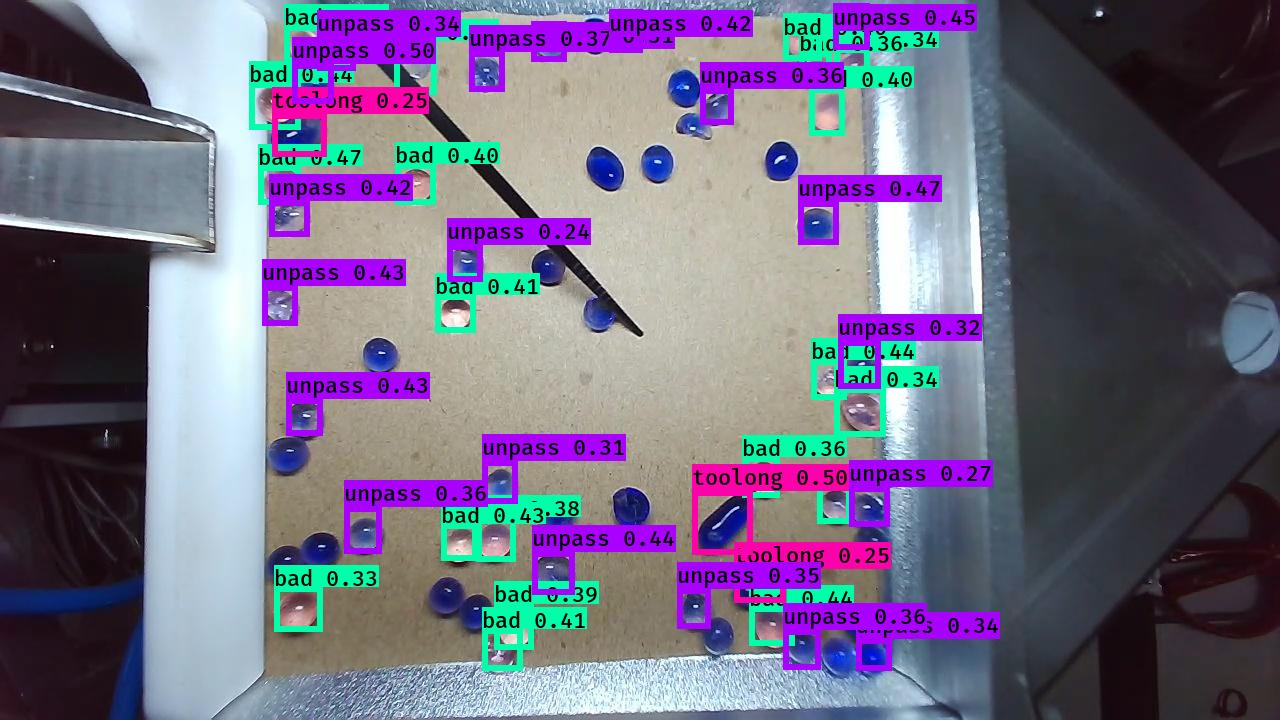bad: (835, 389, 886, 437), (272, 587, 320, 636), (784, 15, 829, 62), (806, 92, 850, 135), (261, 163, 304, 204), (752, 610, 793, 651), (477, 636, 518, 677), (285, 27, 325, 66), (397, 166, 436, 206), (475, 521, 513, 562), (832, 52, 873, 89), (254, 88, 296, 124), (399, 44, 438, 82), (497, 610, 534, 650), (440, 527, 479, 564), (747, 458, 782, 497), (435, 296, 472, 332), (809, 361, 845, 398), (818, 489, 852, 526), (802, 53, 835, 91)
defact: (671, 109, 717, 145)
pass: (609, 481, 654, 534), (584, 143, 627, 194), (757, 138, 801, 184), (530, 250, 573, 292), (539, 494, 581, 537), (259, 542, 301, 585), (300, 529, 340, 572), (361, 336, 400, 380), (426, 576, 468, 616), (665, 67, 704, 110), (458, 591, 495, 636), (697, 616, 737, 657), (580, 291, 619, 333), (640, 145, 678, 186), (853, 526, 891, 567), (837, 601, 877, 639), (578, 16, 612, 54)
toolong: (692, 491, 754, 556), (268, 108, 327, 162), (728, 569, 791, 613)
unpass: (794, 201, 844, 246), (528, 551, 576, 596), (832, 1, 875, 51), (820, 631, 862, 678), (341, 515, 385, 558), (836, 344, 880, 387), (266, 436, 308, 481), (262, 286, 306, 327), (608, 9, 646, 55), (851, 488, 890, 531), (293, 66, 336, 105), (466, 52, 504, 96), (481, 467, 522, 505), (675, 588, 712, 630), (283, 398, 322, 437), (447, 247, 484, 288), (858, 639, 897, 676), (318, 33, 355, 71), (272, 202, 311, 238), (703, 89, 736, 131), (532, 24, 567, 63), (785, 629, 819, 669)
